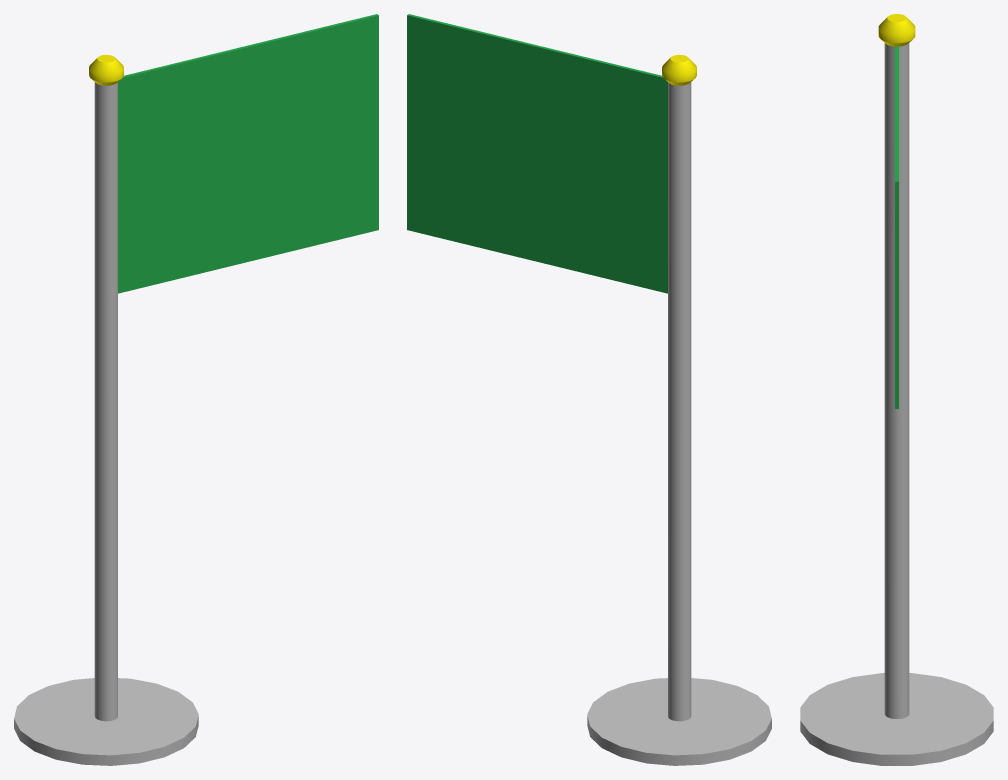
Rendered from Flag.fbx.
The picture shows the model from 3 angles, left to right: view 1: azimuth 30°, elevation 25°; view 2: azimuth 150°, elevation 25°; view 3: azimuth 270°, elevation 25°; orthographic projection. The views are drawn at different scales.
Visible parts, largest first — view 1: pCylinder1; view 2: pCylinder1; view 3: pCylinder1.
Part boxes in pixels (<box>): pCylinder1: <box>14,14,378,765</box>; pCylinder1: <box>407,14,771,765</box>; pCylinder1: <box>800,14,993,765</box>.
Size of the model in its own units: 34.65 by 63.1 by 15.63.
